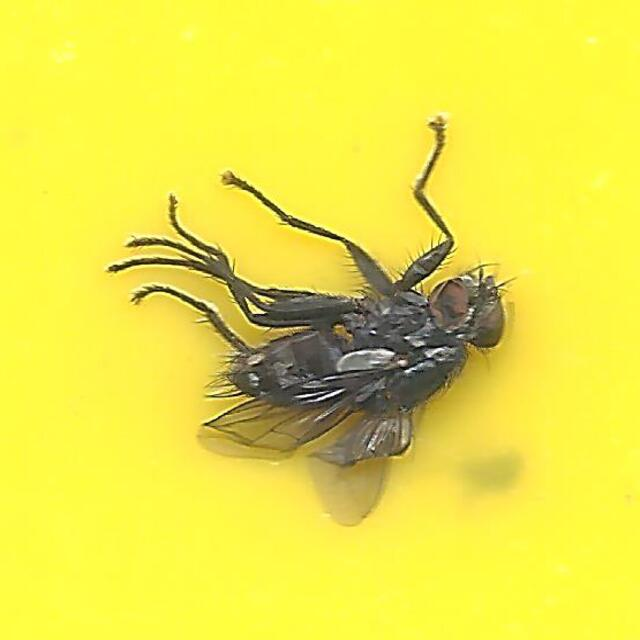Brachycera: (115, 110, 525, 530)
